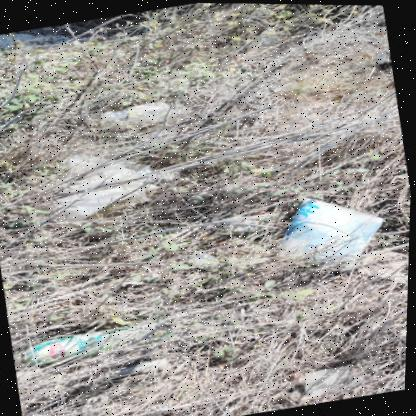Plastic: (43, 152, 157, 221), (275, 195, 383, 260), (22, 317, 166, 363), (306, 363, 367, 397), (101, 100, 170, 129), (245, 25, 280, 49), (376, 50, 392, 71)
Waste: (195, 252, 214, 260)
